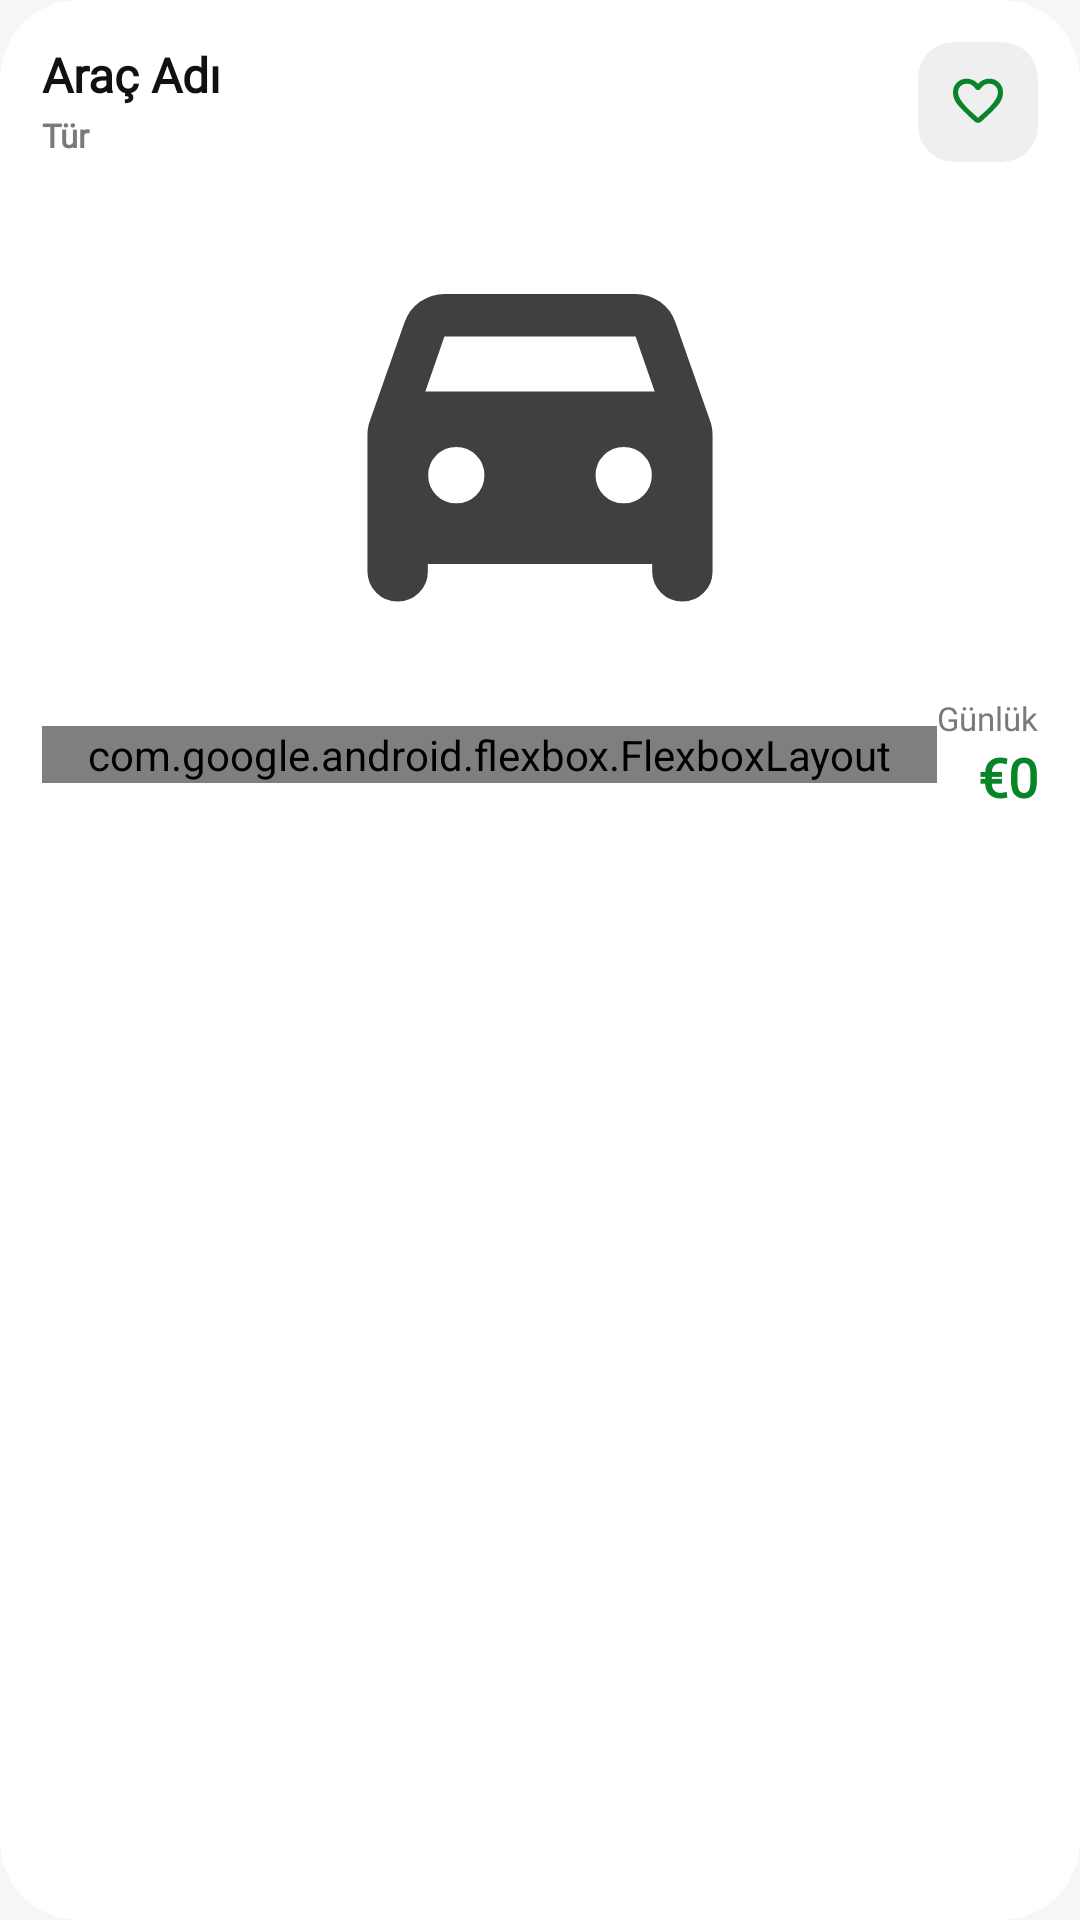

Icons on this 1080 × 1920 Android screen, each with the point to tap as (x=x, y=y):
directions car: (x=540, y=448)
favorite: (x=978, y=102)
